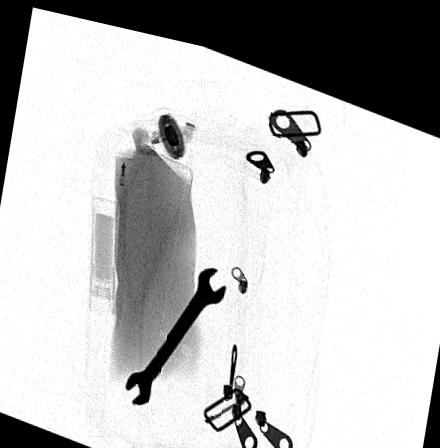Wrench: (124, 254, 229, 399)
